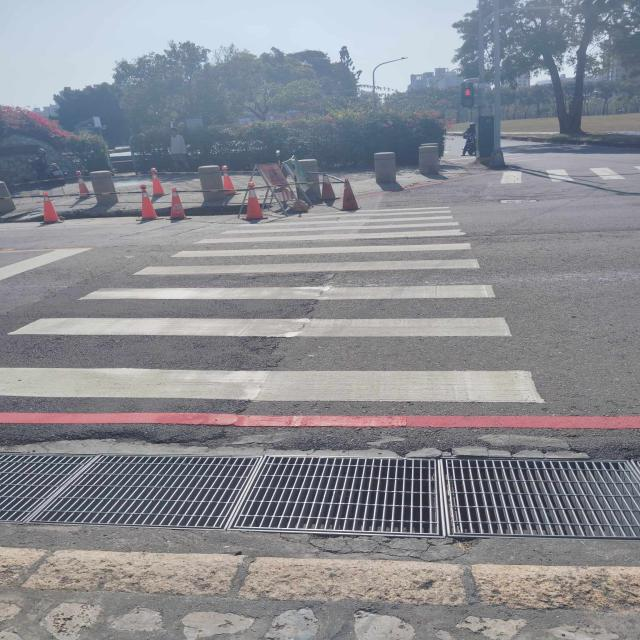zebra crossing: (0, 203, 545, 404), (496, 167, 640, 182)
